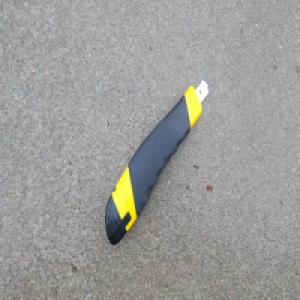Cutter: (105, 78, 210, 246)
